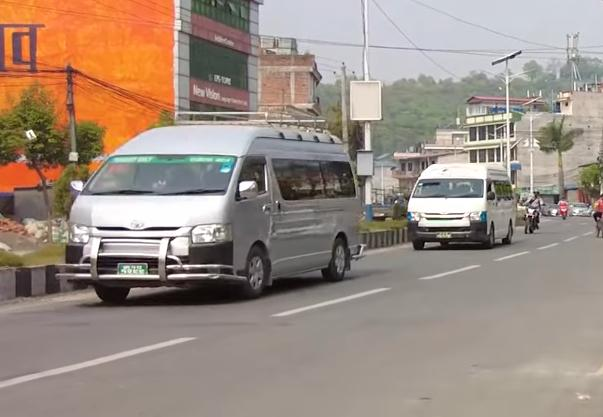micro_bus: (57, 104, 367, 308), (404, 161, 518, 252)
